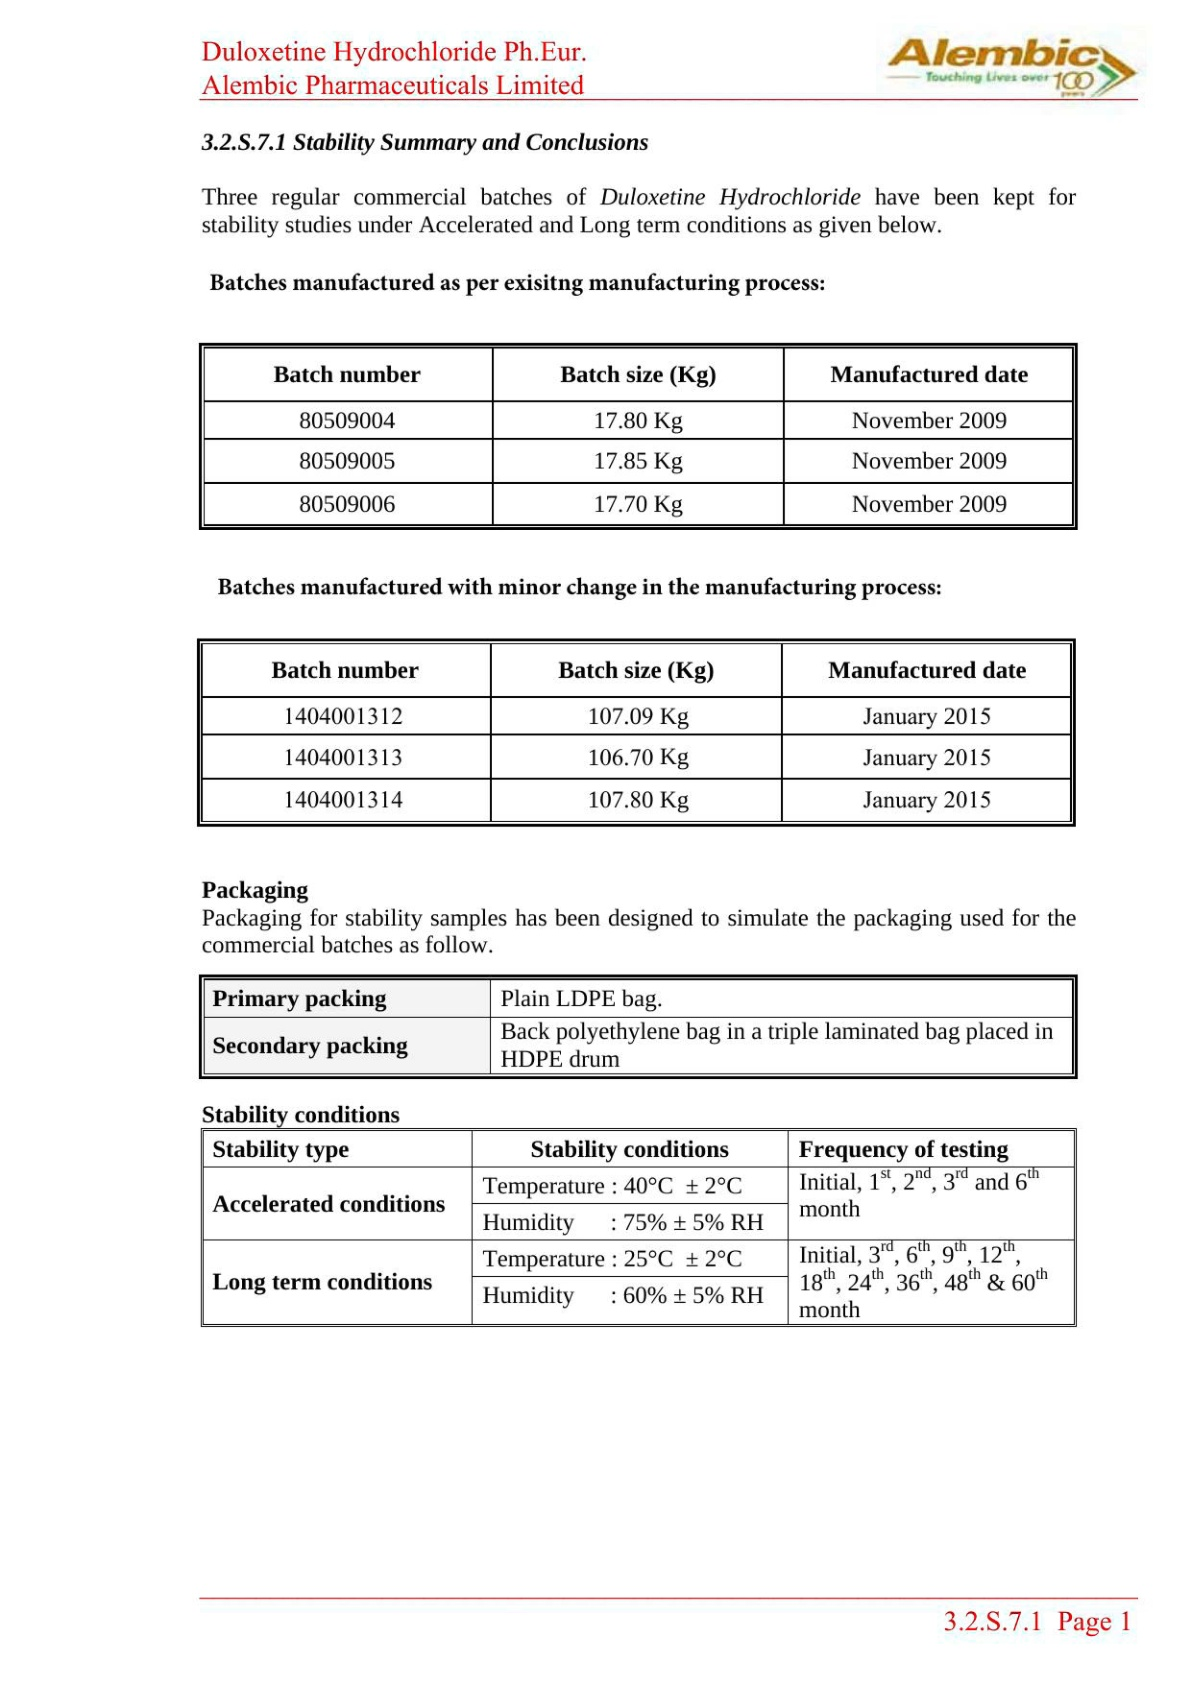full_lined: (196, 637, 1078, 828), (198, 342, 1078, 531), (198, 975, 1078, 1080)
merged_cells: (200, 1127, 1078, 1328)
